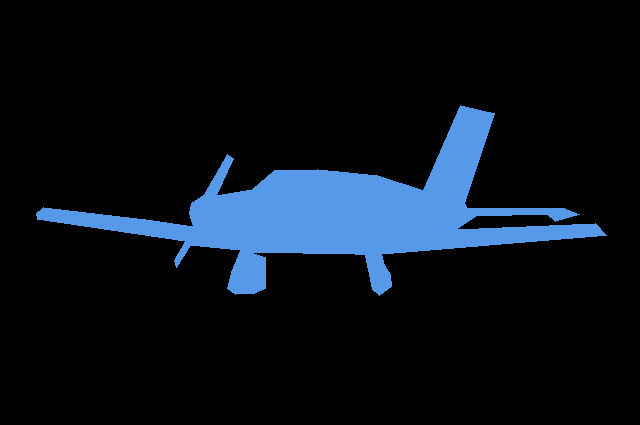Airplane: (36, 105, 606, 295)
